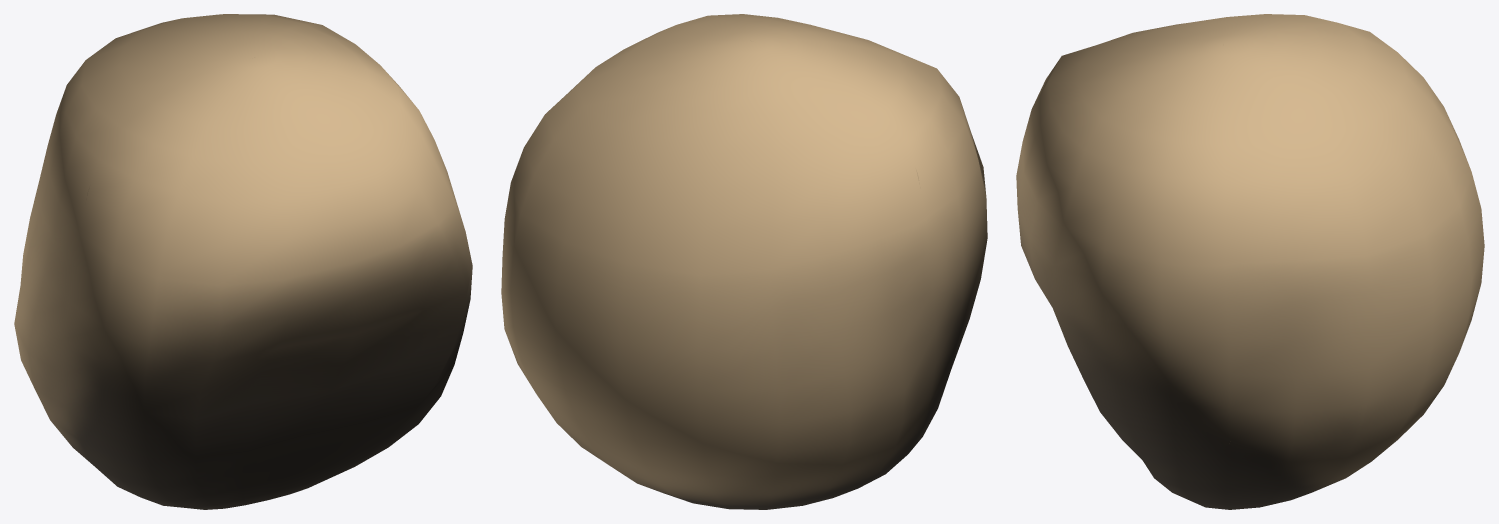
Rendered from Hair_2.fbx.
3 renders of one model, left to right at view 1: azimuth 30°, elevation 25°; view 2: azimuth 150°, elevation 25°; view 3: azimuth 270°, elevation 25°, orthographic.
Parts seen in each view (by area): view 1: Hair_2; view 2: Hair_2; view 3: Hair_2.
Boxes of the visible parts, x1,y1,x2,y2 form: Hair_2: [14, 14, 472, 509]; Hair_2: [501, 14, 987, 509]; Hair_2: [1016, 14, 1484, 509].
Bounding box in the file's own units: 35.46 × 39.35 × 37.8.
Materials: 1 (1 with a texture image).
